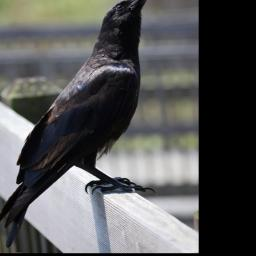Crow: (0, 0, 157, 248)
